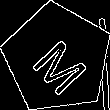M_NE: (23, 24, 91, 93)
